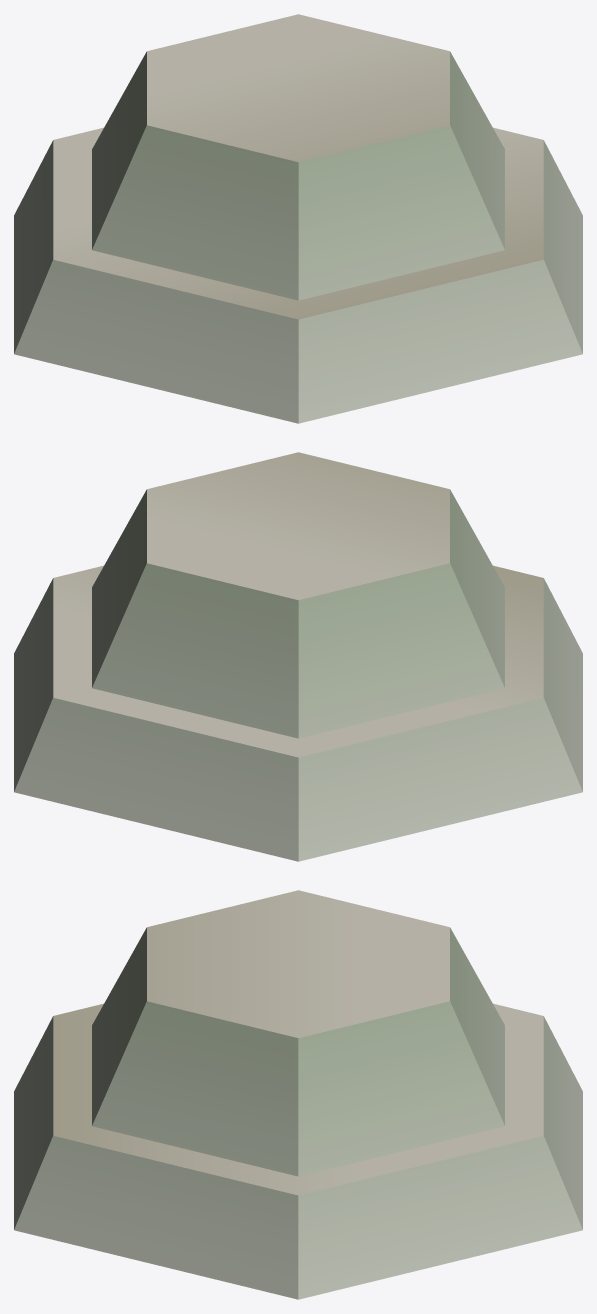
File: PROP_007_WaterFontainBase.fbx
3 renders of one model, top to bottom at view 1: azimuth 30°, elevation 25°; view 2: azimuth 150°, elevation 25°; view 3: azimuth 270°, elevation 25°, orthographic.
Visible parts, largest first — view 1: PROP_007_WaterFontainBase; view 2: PROP_007_WaterFontainBase; view 3: PROP_007_WaterFontainBase.
Part boxes in pixels (x1,y1,x2,y2): PROP_007_WaterFontainBase: (14, 14, 582, 423); PROP_007_WaterFontainBase: (14, 452, 582, 861); PROP_007_WaterFontainBase: (14, 890, 582, 1299).
Bounding box in the file's own units: 27.56 × 9.1 × 23.87.
